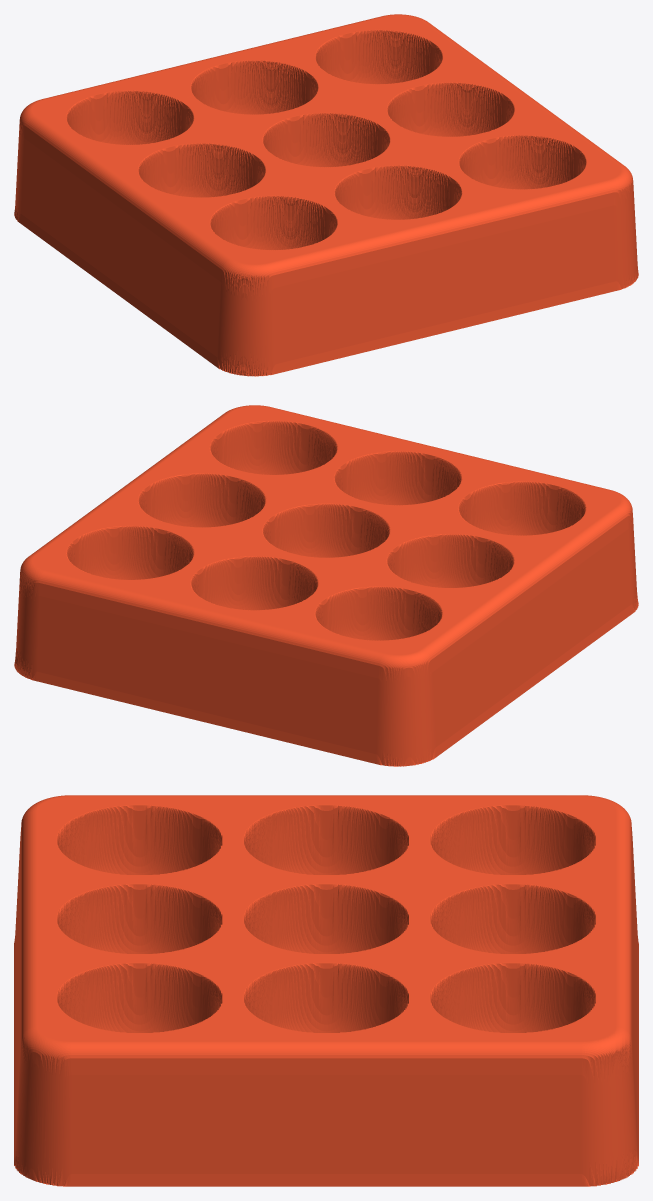
File: mold.glb
3 renders of one model, top to bottom at view 1: azimuth 30°, elevation 25°; view 2: azimuth 150°, elevation 25°; view 3: azimuth 270°, elevation 25°, orthographic. The views are drawn at different scales.
Visible parts, largest first — view 1: geometry_0; view 2: geometry_0; view 3: geometry_0.
Part boxes in pixels (left/top/right/bottom): geometry_0: left=14, top=14, right=638, bottom=376; geometry_0: left=14, top=405, right=638, bottom=766; geometry_0: left=14, top=795, right=638, bottom=1186.
Size of the model in its own units: 0.0984 by 0.0235 by 0.0984.
